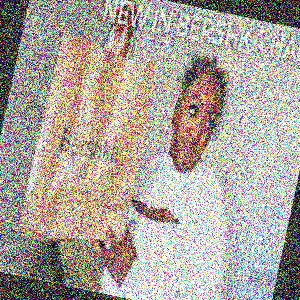bershka: (106, 60, 157, 179), (128, 4, 300, 12)
